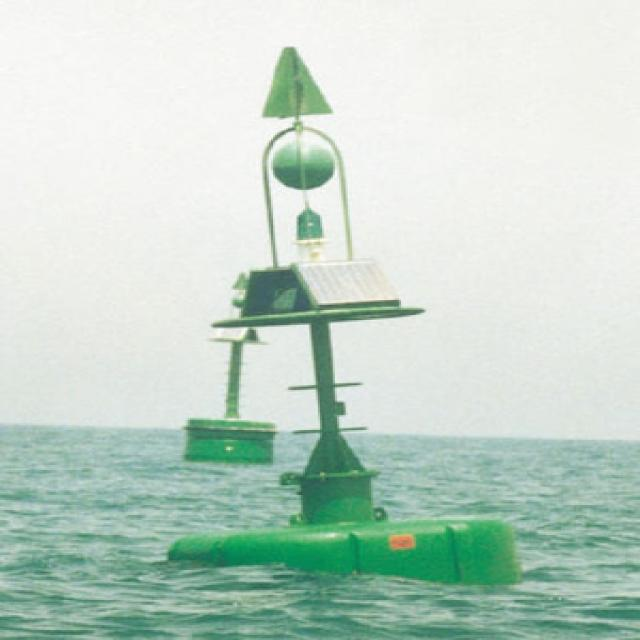buoy: (150, 24, 556, 593)
